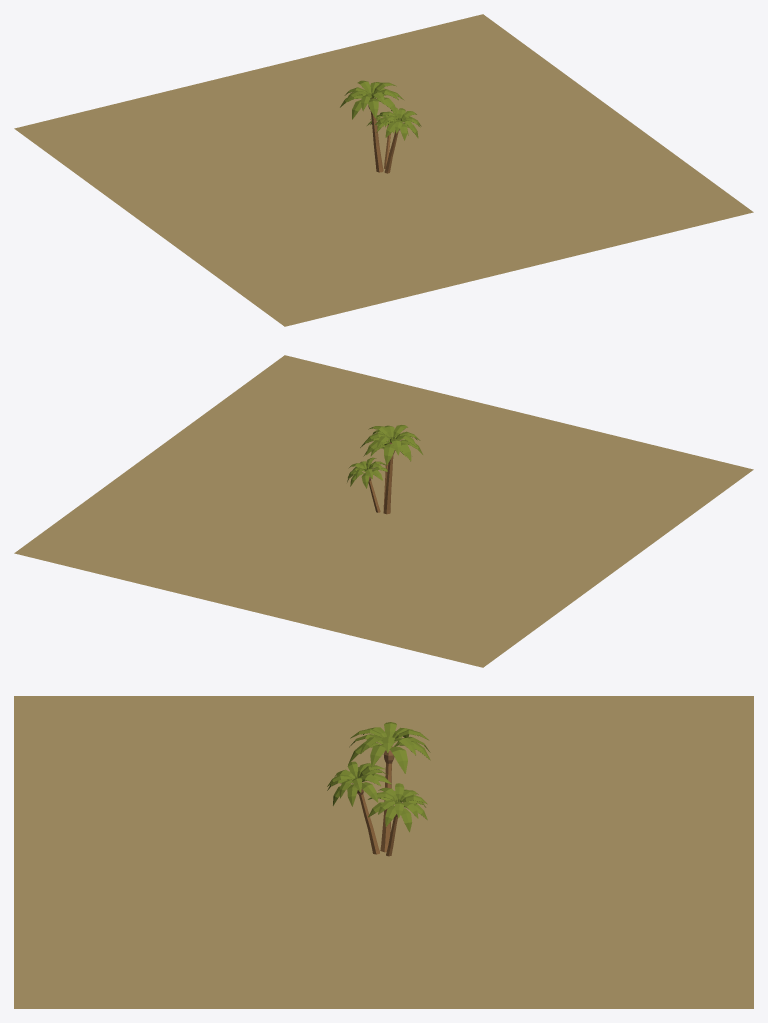
File: Tile 45_Combined_2.fbx
The picture shows the model from 3 angles, top to bottom: view 1: azimuth 30°, elevation 25°; view 2: azimuth 150°, elevation 25°; view 3: azimuth 270°, elevation 25°; orthographic projection. The views are drawn at different scales.
Parts seen in each view (by area): view 1: MeshBaker_mesh_mesh; view 2: MeshBaker_mesh_mesh; view 3: MeshBaker_mesh_mesh.
Boxes of the visible parts, <box> form: MeshBaker_mesh_mesh: <box>14,14,753,326</box>; MeshBaker_mesh_mesh: <box>14,355,753,667</box>; MeshBaker_mesh_mesh: <box>14,696,753,1008</box>.
Size of the model in its own units: 3000 by 541 by 3000.
